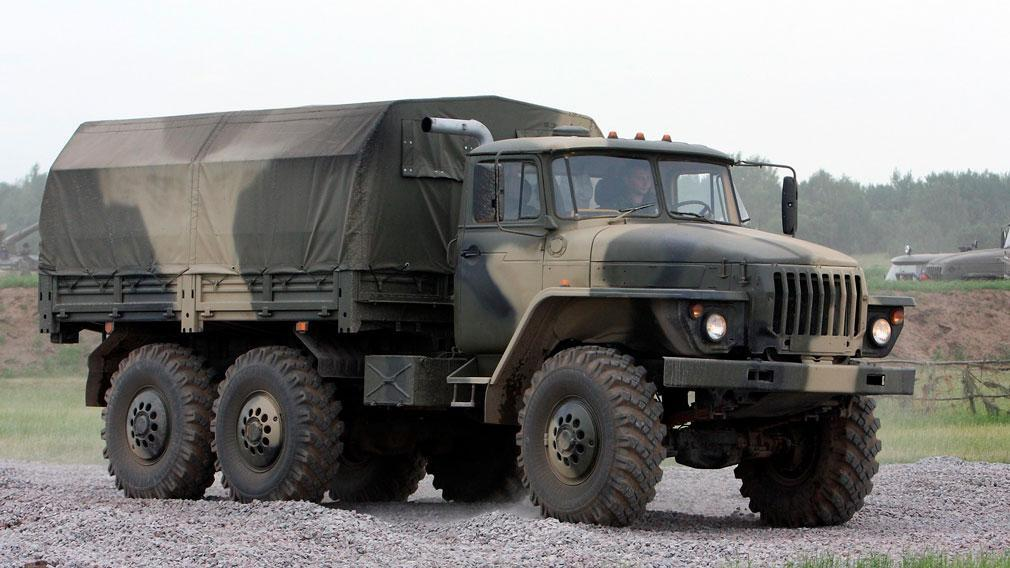truck: (31, 104, 923, 541)
